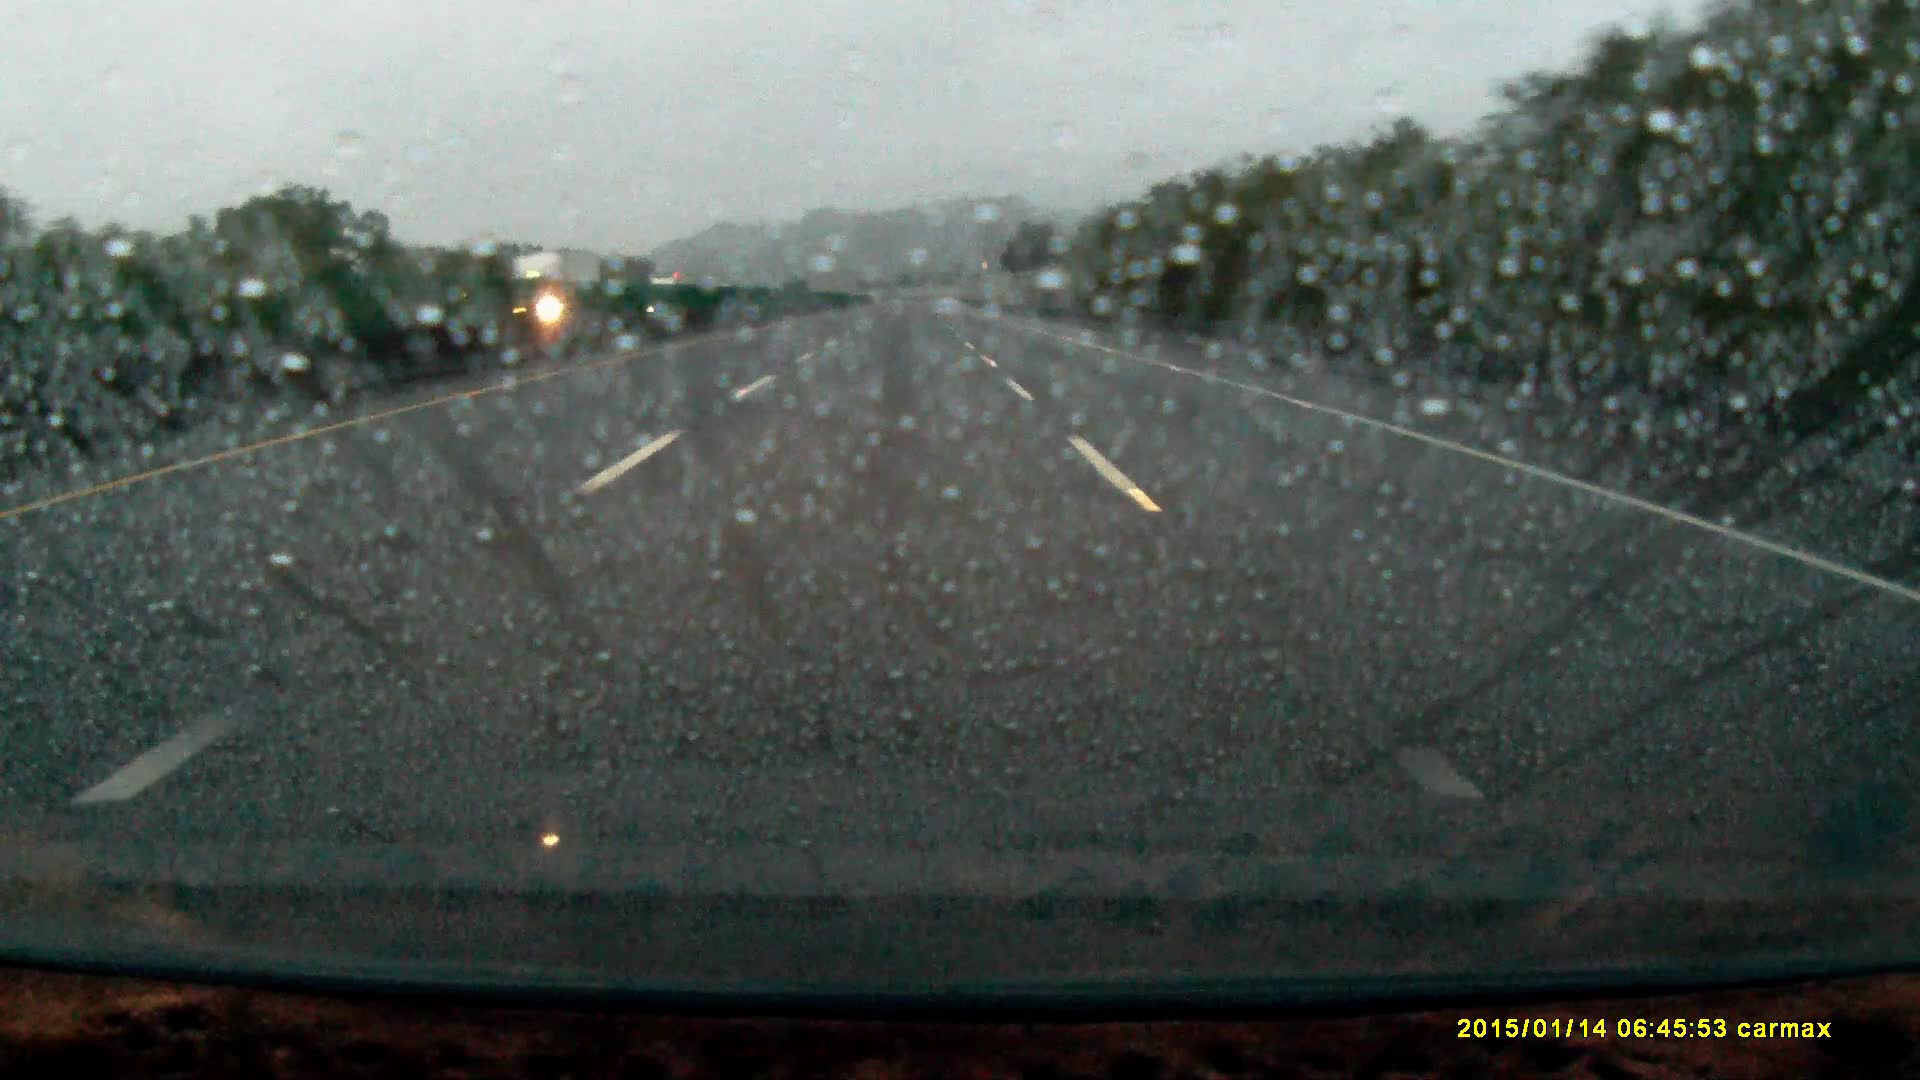vehicle: (513, 251, 618, 336), (651, 278, 696, 313)
